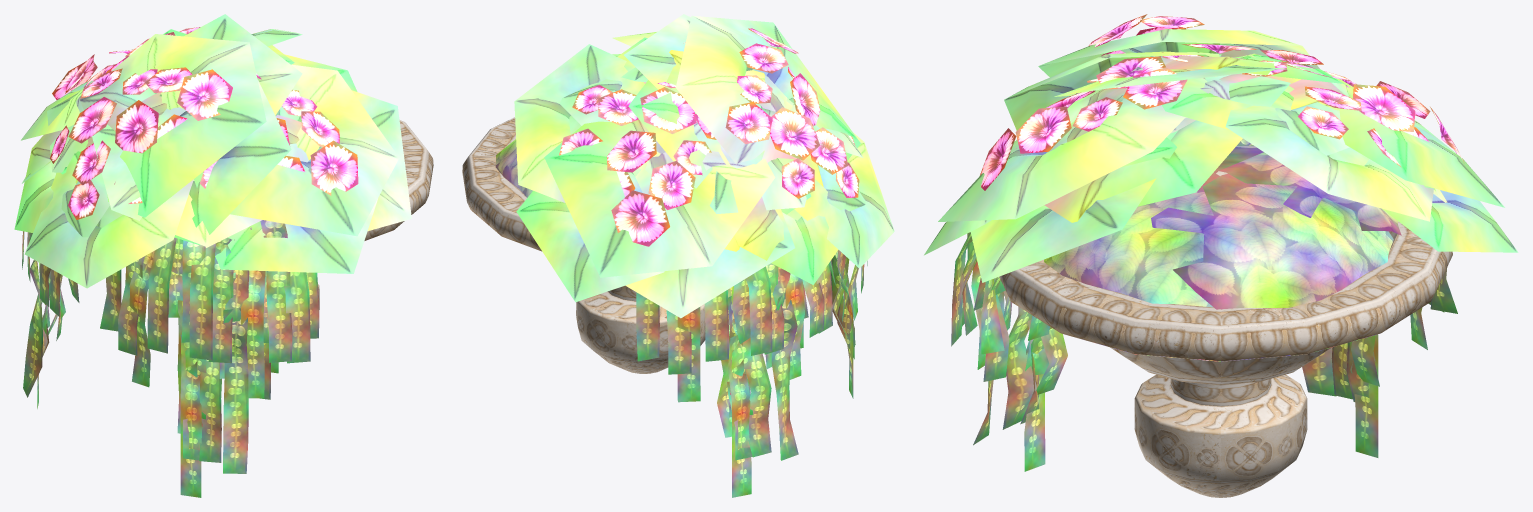
Rendered from smallbowl03_SM.fbx.
The picture shows the model from 3 angles, left to right: view 1: azimuth 30°, elevation 25°; view 2: azimuth 150°, elevation 25°; view 3: azimuth 270°, elevation 25°; orthographic projection. The views are drawn at different scales.
Parts seen in each view (by area): view 1: smallbowl03_SM_LOD0; view 2: smallbowl03_SM_LOD0; view 3: smallbowl03_SM_LOD0.
Part boxes in pixels (<box>): smallbowl03_SM_LOD0: <box>14,14,433,497</box>; smallbowl03_SM_LOD0: <box>462,14,894,497</box>; smallbowl03_SM_LOD0: <box>924,14,1518,497</box>.
Size of the model in its own units: 185 by 199 by 182.
8 materials, 8 textured.
